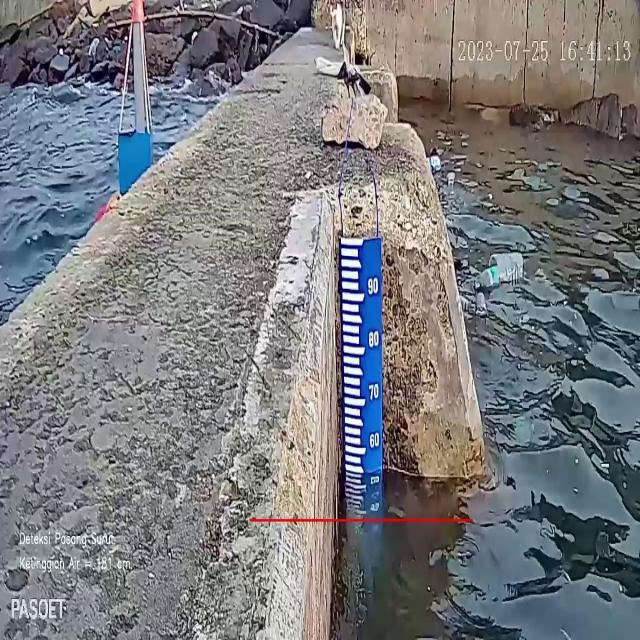60: (369, 431, 380, 450)
70: (369, 384, 380, 401)
80: (369, 331, 379, 349)
90: (368, 277, 378, 296)
staff: (340, 235, 383, 472)
